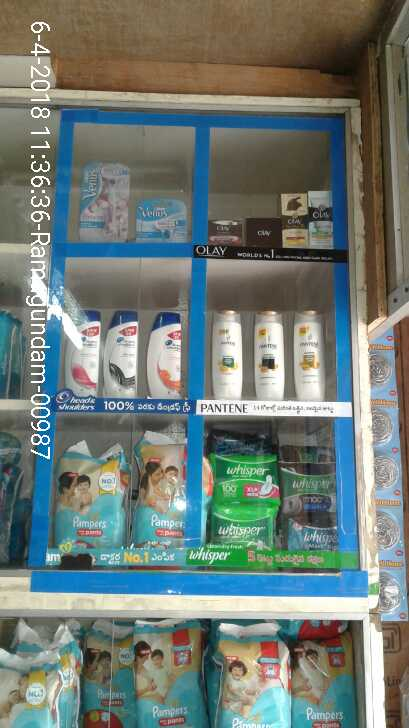venus: (83, 160, 126, 240), (136, 199, 189, 241)
